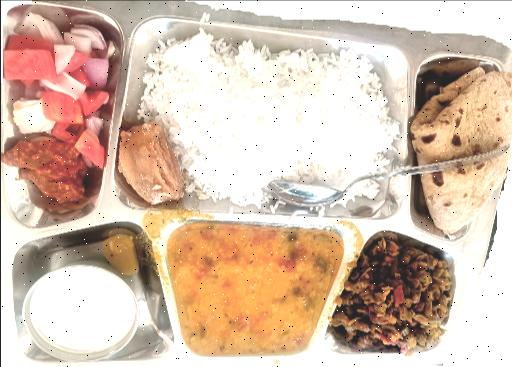Curd: (18, 264, 146, 360)
Dal: (170, 233, 330, 349)
Pickle: (0, 146, 87, 222)
Rice: (138, 35, 396, 203)
Roti: (416, 70, 512, 228)
Salad: (4, 14, 110, 130)
Sweet: (116, 124, 188, 202)
Vegetable: (334, 249, 460, 350)
